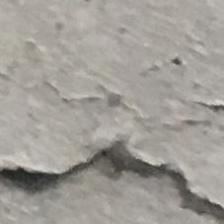Crack: (0, 102, 224, 224)
